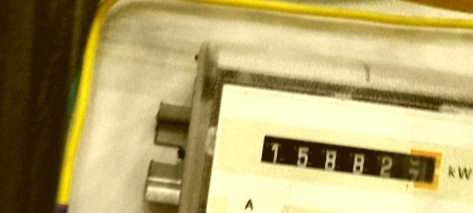1: (264, 139, 281, 163)
2: (374, 153, 393, 179)
5: (292, 142, 308, 169)
7: (404, 164, 418, 182)
8: (347, 150, 364, 176), (320, 147, 335, 172)
screen: (247, 124, 449, 200)
